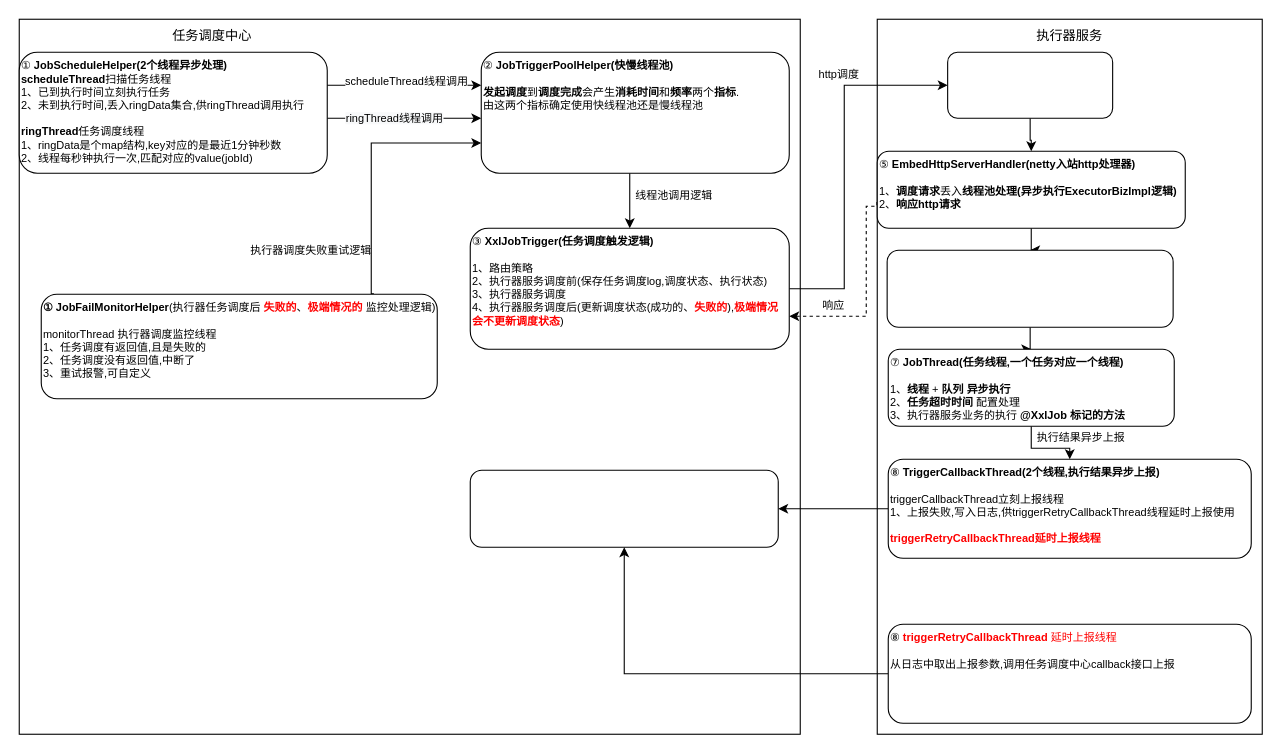
Image size: 1282x754. Some labels were removed from this diagram. The shapes that lost their labels are listed below. From the top down, each one's centre as x and y in pixels, then its label:
At (1030,84): "④ EmbedServer (netty服务) 新开线程,异步启动netty服务".
At (1029,288): "⑥ ExecutorBizImpl 1、运行模式判断(bean、glue) 2、阻塞处理策略".
At (623,508): "⑨ JobCompleteHelper (任务完成处理) callbackThreadPool线程池异步处理 1、更新任务调度log 执行状态".
